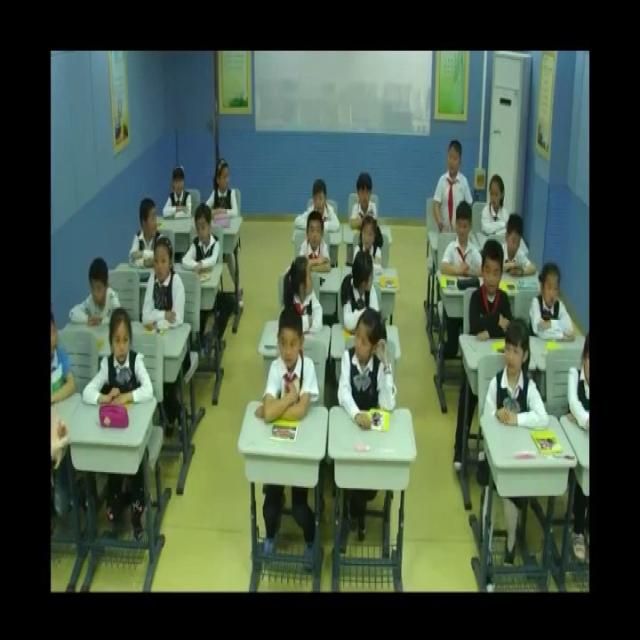distracted: (339, 255, 382, 338), (284, 254, 326, 336), (131, 200, 167, 278), (49, 315, 78, 405), (206, 158, 238, 224)
focused: (336, 310, 400, 432), (485, 320, 549, 440), (258, 311, 320, 434), (85, 310, 153, 409), (432, 133, 479, 239), (469, 242, 514, 345), (144, 231, 186, 339), (530, 265, 580, 352), (438, 207, 491, 289), (70, 257, 122, 331), (500, 216, 542, 284), (184, 203, 222, 278), (292, 184, 340, 238), (298, 212, 334, 280), (352, 213, 384, 276), (480, 174, 512, 237), (349, 175, 382, 233), (162, 166, 195, 222)
